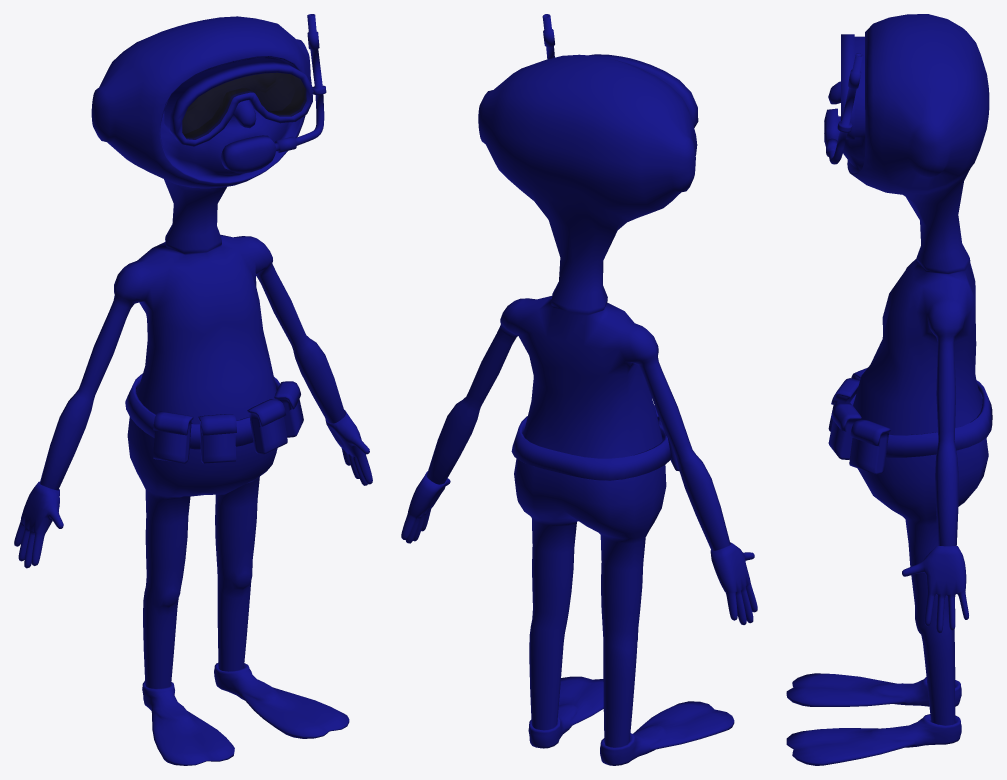
File: driver1_01.FBX
3 renders of one model, left to right at view 1: azimuth 30°, elevation 25°; view 2: azimuth 150°, elevation 25°; view 3: azimuth 270°, elevation 25°, orthographic. The views are drawn at different scales.
Parts seen in each view (by area): view 1: driver1_001; view 2: driver1_001; view 3: driver1_001.
Boxes of the visible parts, box(x1,y1,x2,y2) form: driver1_001: box(14, 14, 372, 765); driver1_001: box(401, 14, 757, 765); driver1_001: box(786, 14, 992, 765).
Bounding box in the file's own units: 23.54 × 45.27 × 12.
